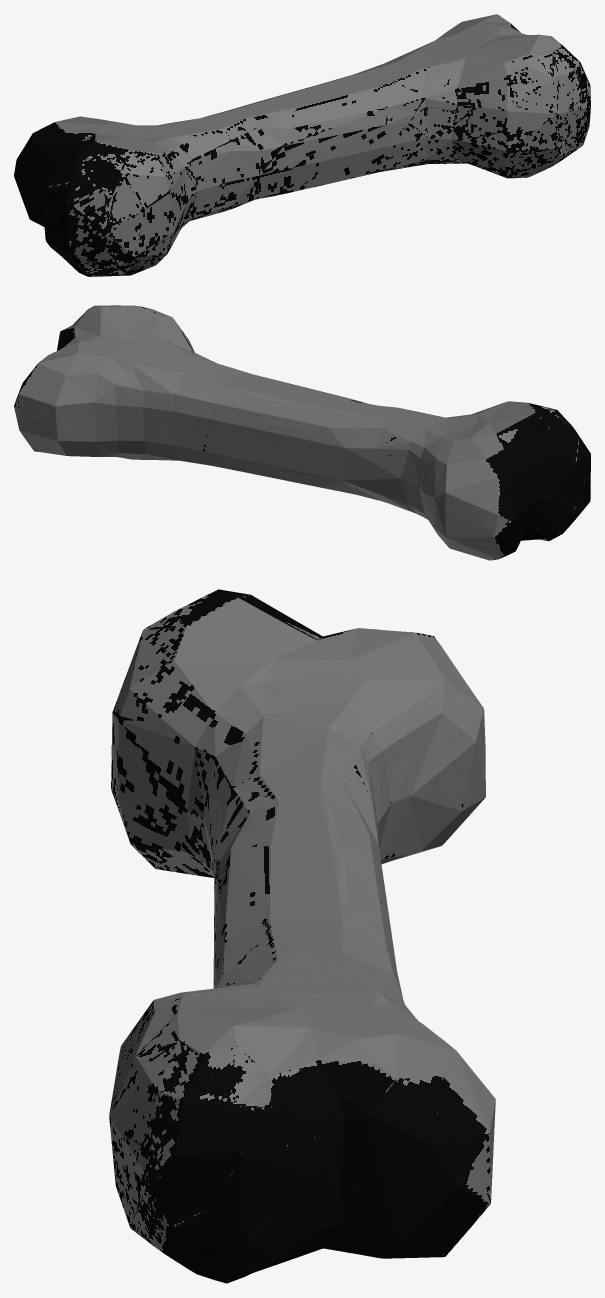
3 views of the same model, one above another, from view 1: azimuth 30°, elevation 25°; view 2: azimuth 150°, elevation 25°; view 3: azimuth 270°, elevation 25° (orthographic). The views are drawn at different scales.
Parts seen in each view (by area): view 1: OBJ0c4; view 2: OBJ0c4; view 3: OBJ0c4.
Boxes of the visible parts, <box> form: OBJ0c4: <box>14,14,590,276</box>; OBJ0c4: <box>14,305,590,560</box>; OBJ0c4: <box>109,589,495,1283</box>.
Size of the model in its own units: 0.3235 by 0.0762 by 0.1039.
Materials: 1 (1 with a texture image).
